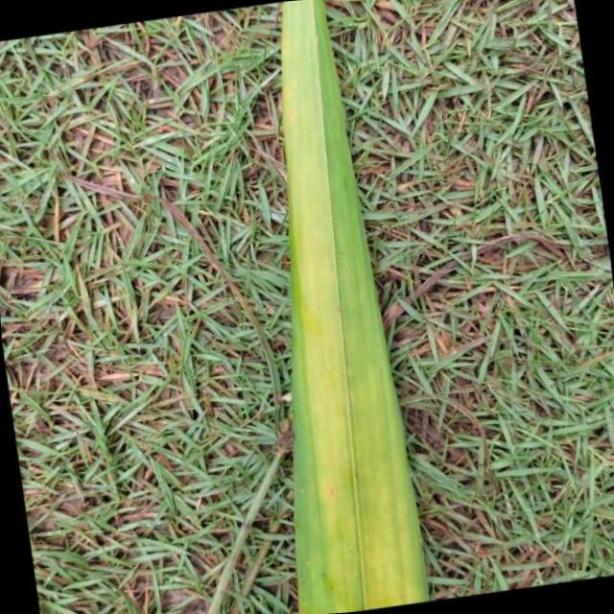nitrogen: (280, 0, 432, 614)
